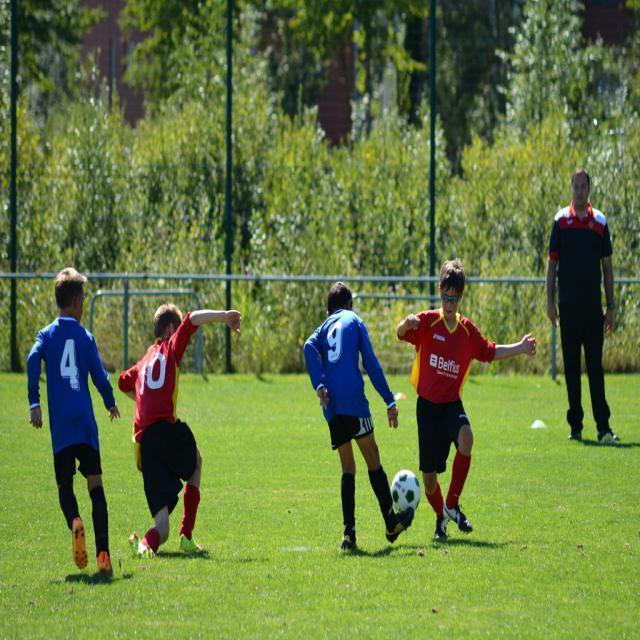football: (378, 455, 436, 526)
